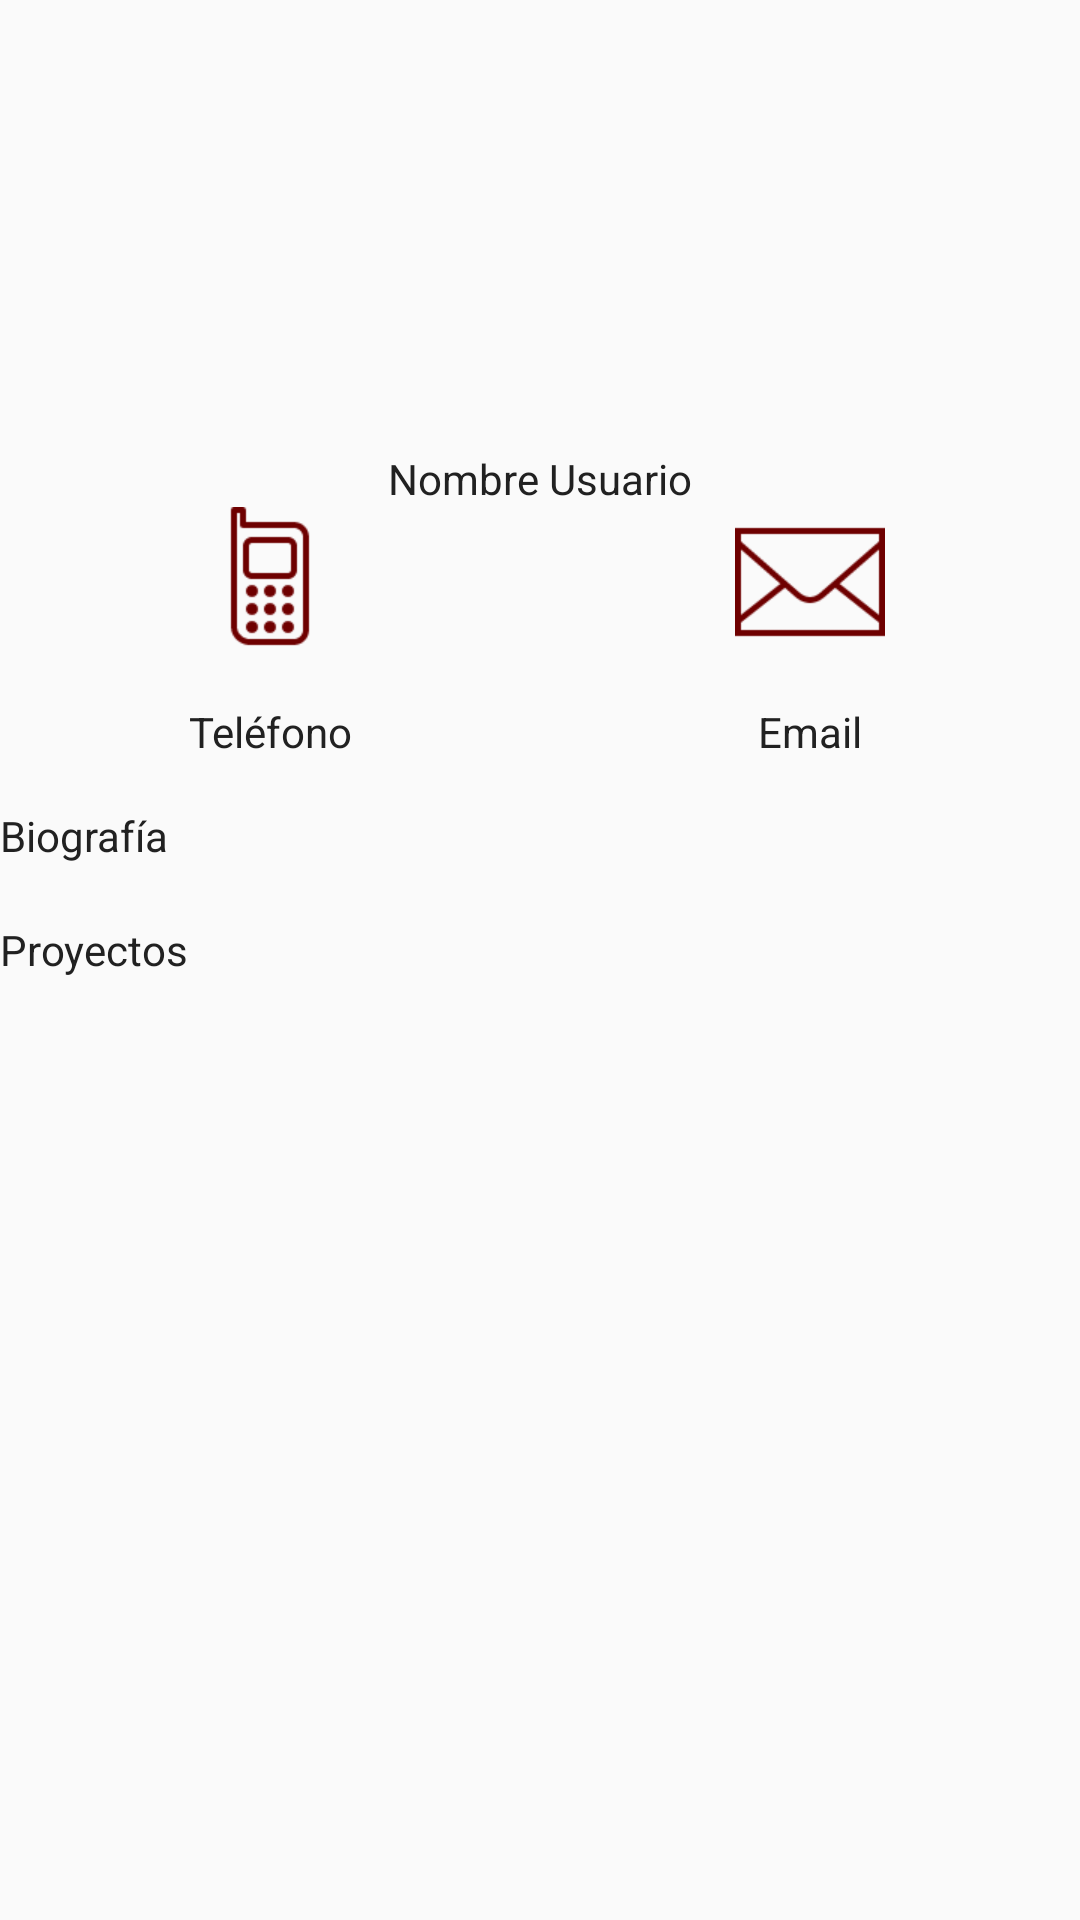

Locate icon controls on the screen. Image size 1080x1920, boxes as (x1, y1, x2, y2).
message: (735, 527, 885, 637)
phone: (230, 507, 310, 646)
